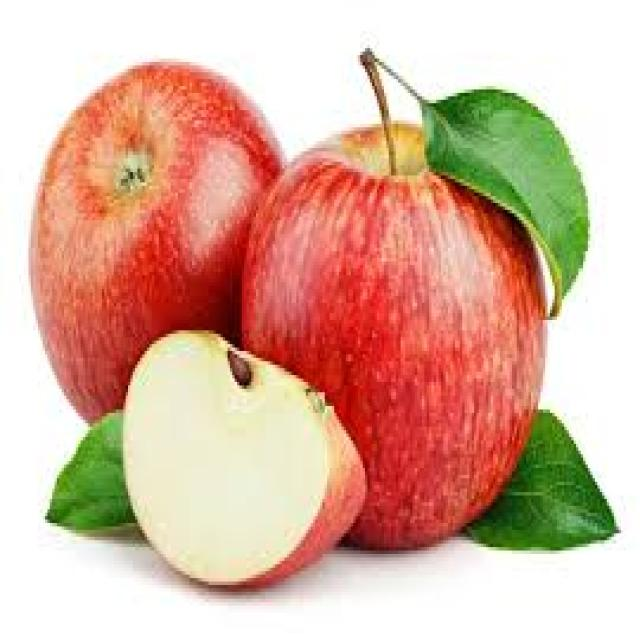apple: (242, 106, 558, 556)
